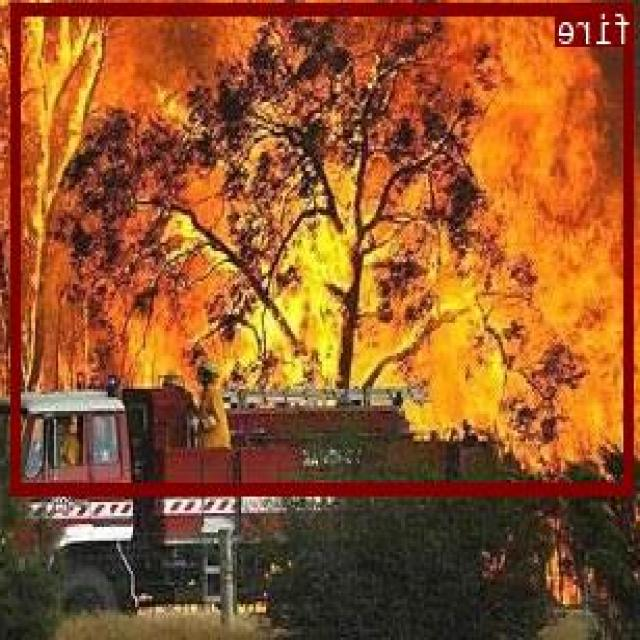fire: (13, 0, 636, 494)
